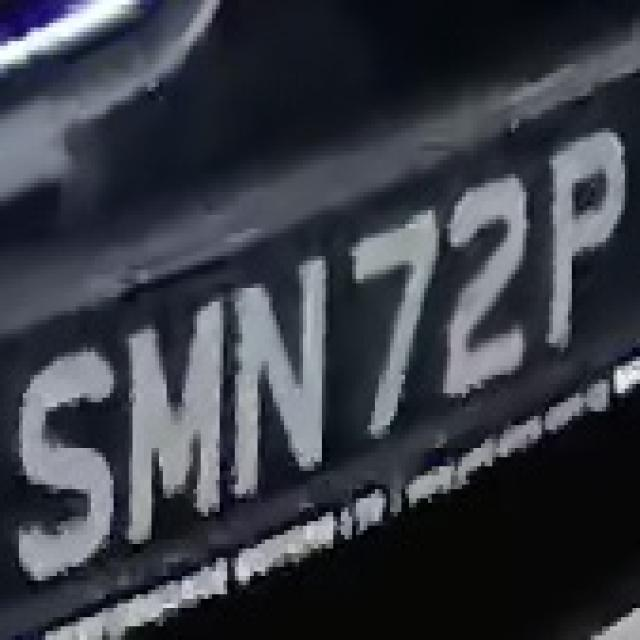2: (435, 178, 534, 416)
7: (337, 219, 447, 466)
M: (114, 306, 238, 535)
N: (220, 256, 344, 494)
P: (538, 119, 628, 347)
S: (8, 338, 125, 590)
